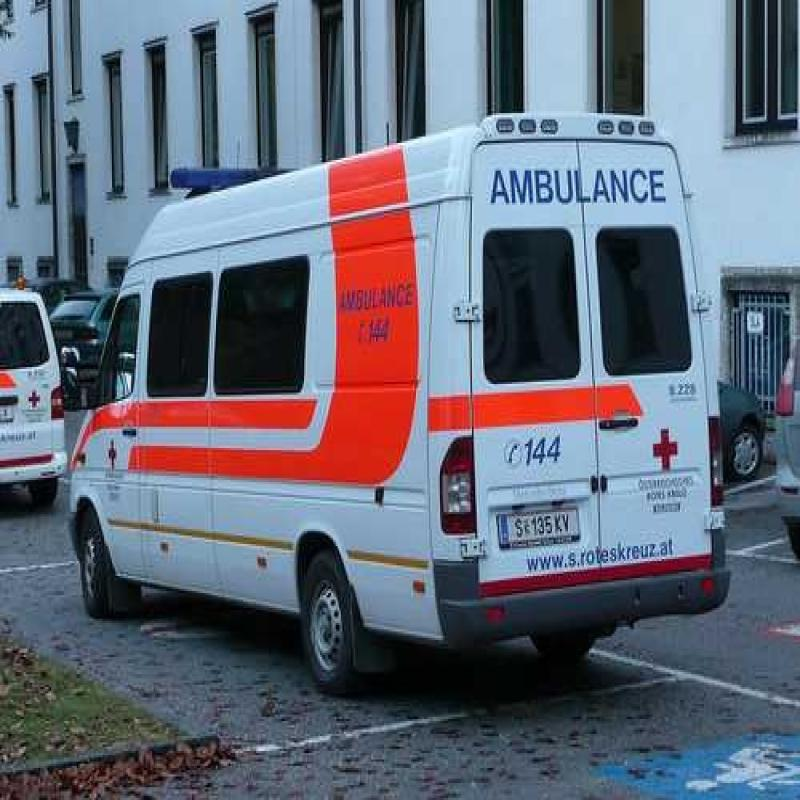AmbulanceSiren: (164, 141, 273, 204)
